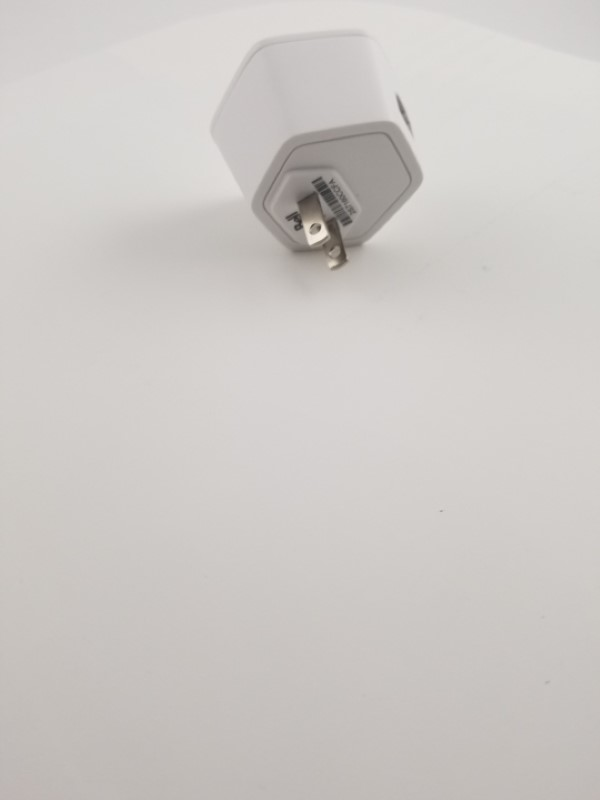pod: (200, 21, 442, 276)
